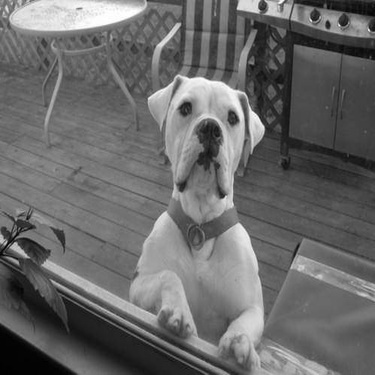dog: (111, 66, 280, 371)
